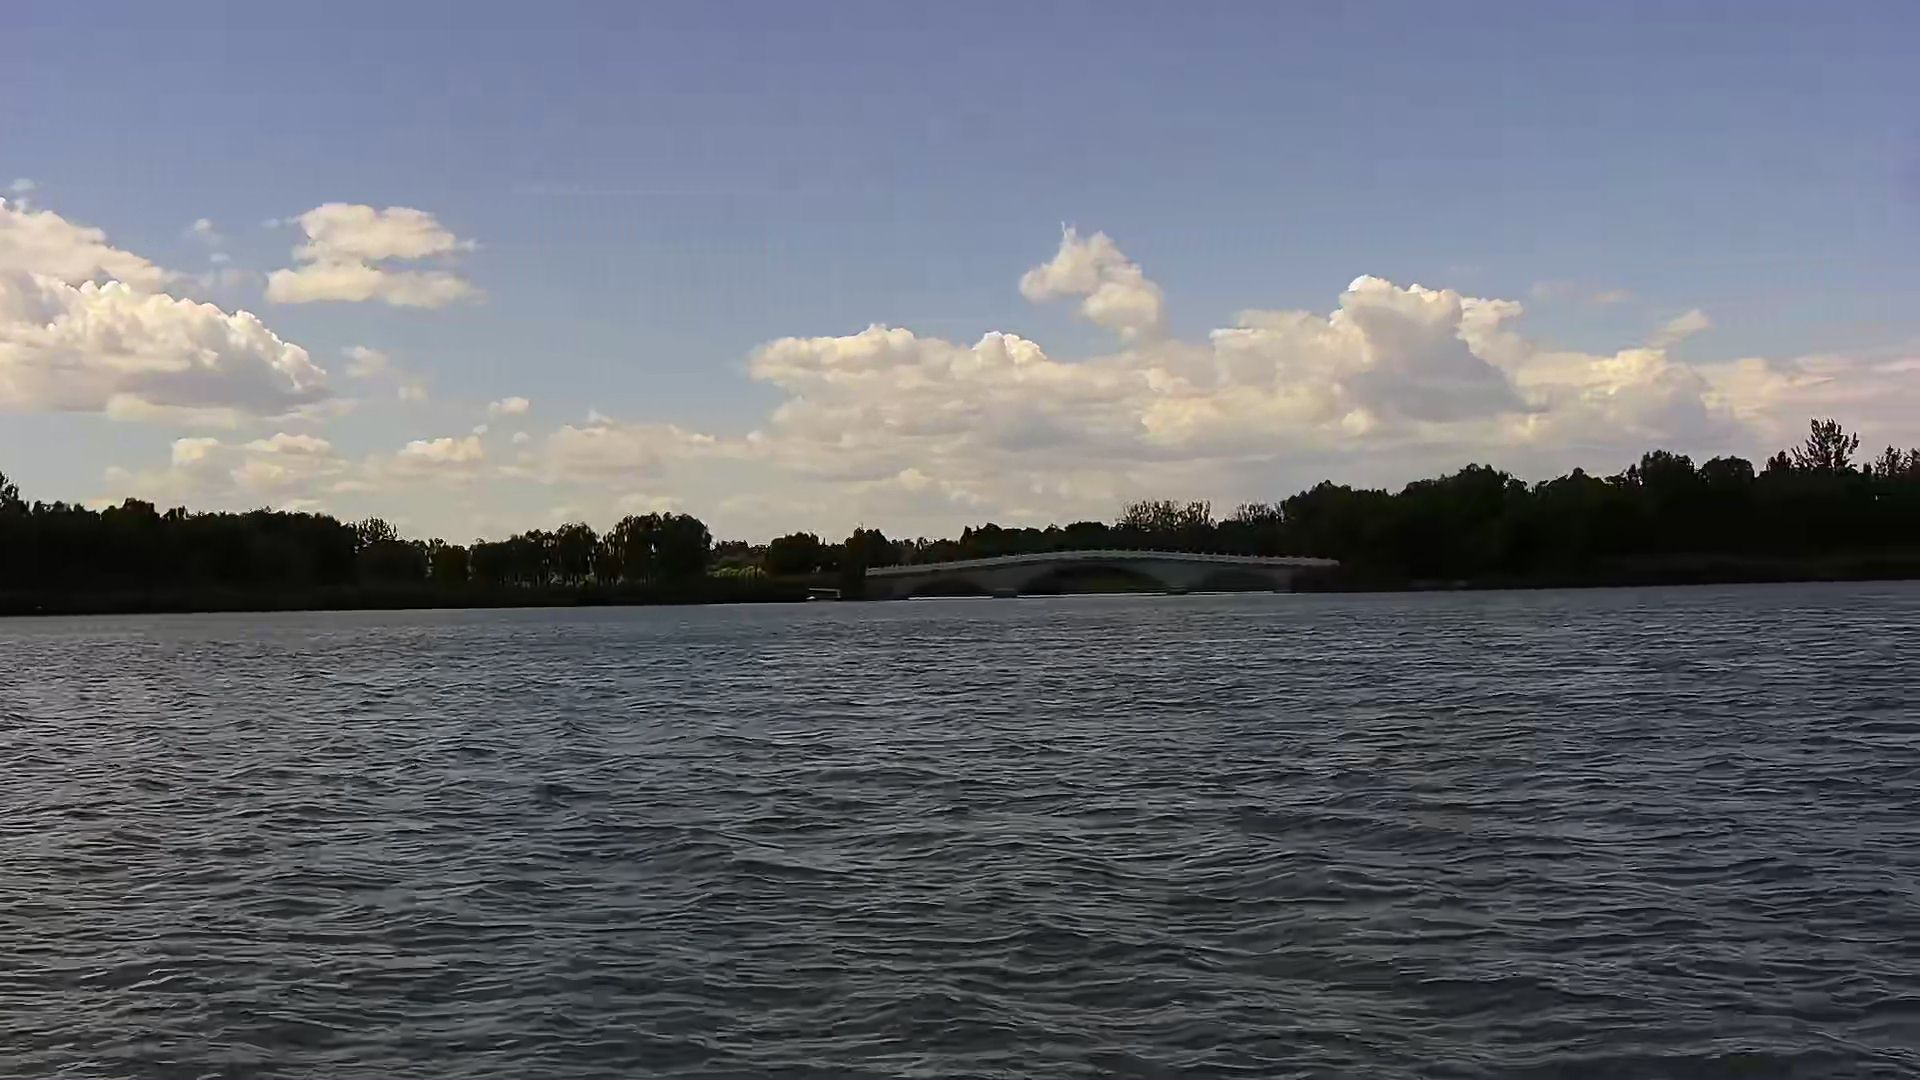bridge: (874, 545, 1340, 597)
